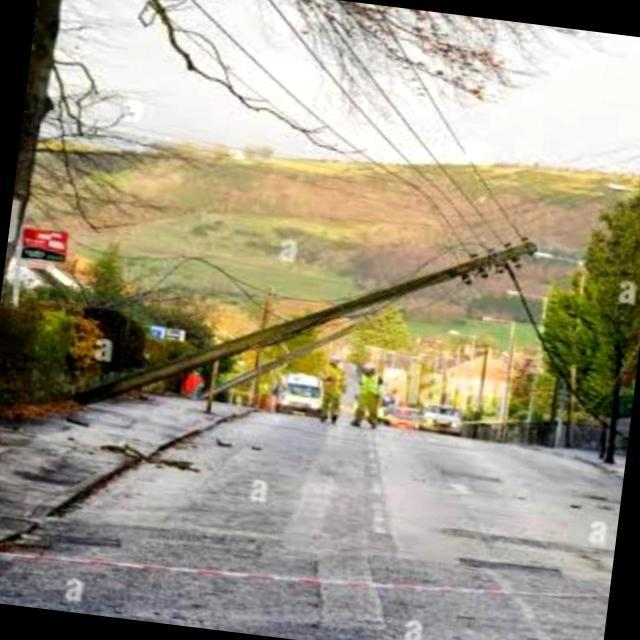Broken Pole: (65, 238, 541, 409)
